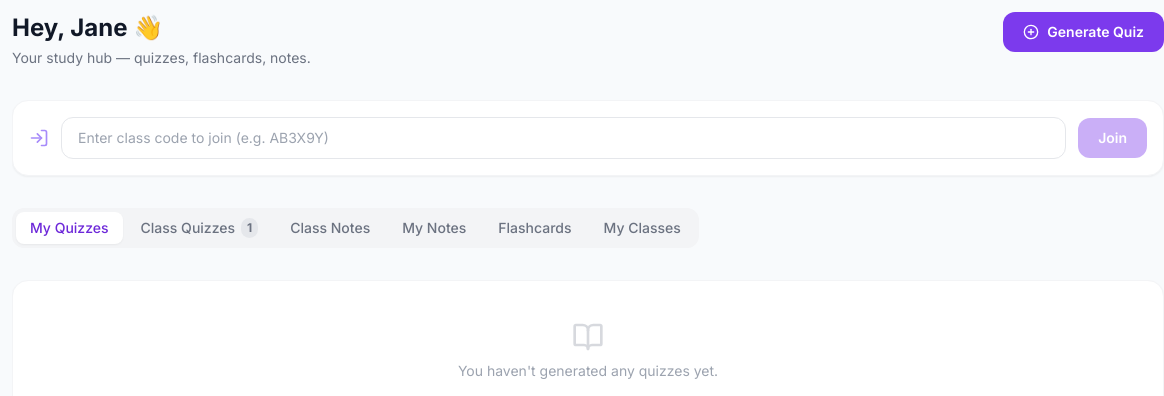
Scenario: StudentDashboard - FEAT-008 Quiz Sharing › Quiz cards display correctly › quiz link points to /quiz/:id
What coordinates should you click on to do the following:
click the button "Class Quizzes 1"
I would click on:
 (199, 228)
Its box is [127,212,272,244].
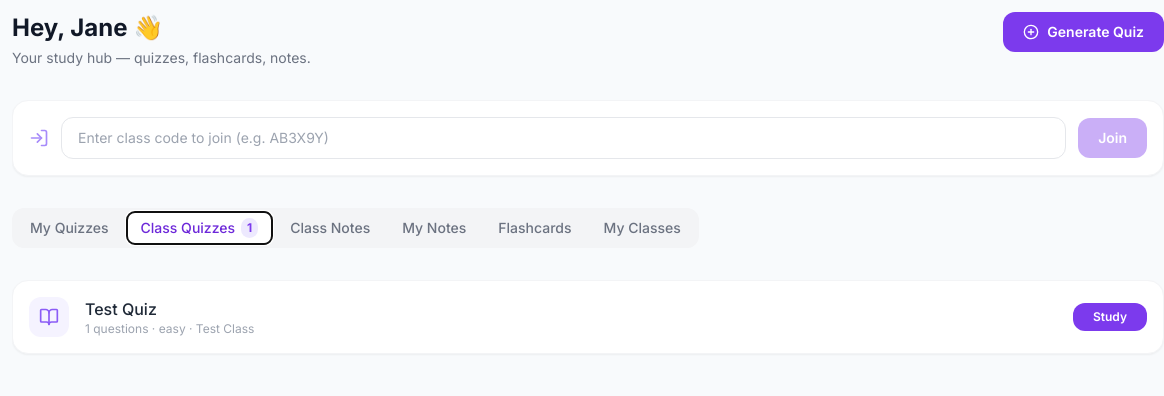
Result: the text "Test Quiz" is shown at [85,299,157,319]
